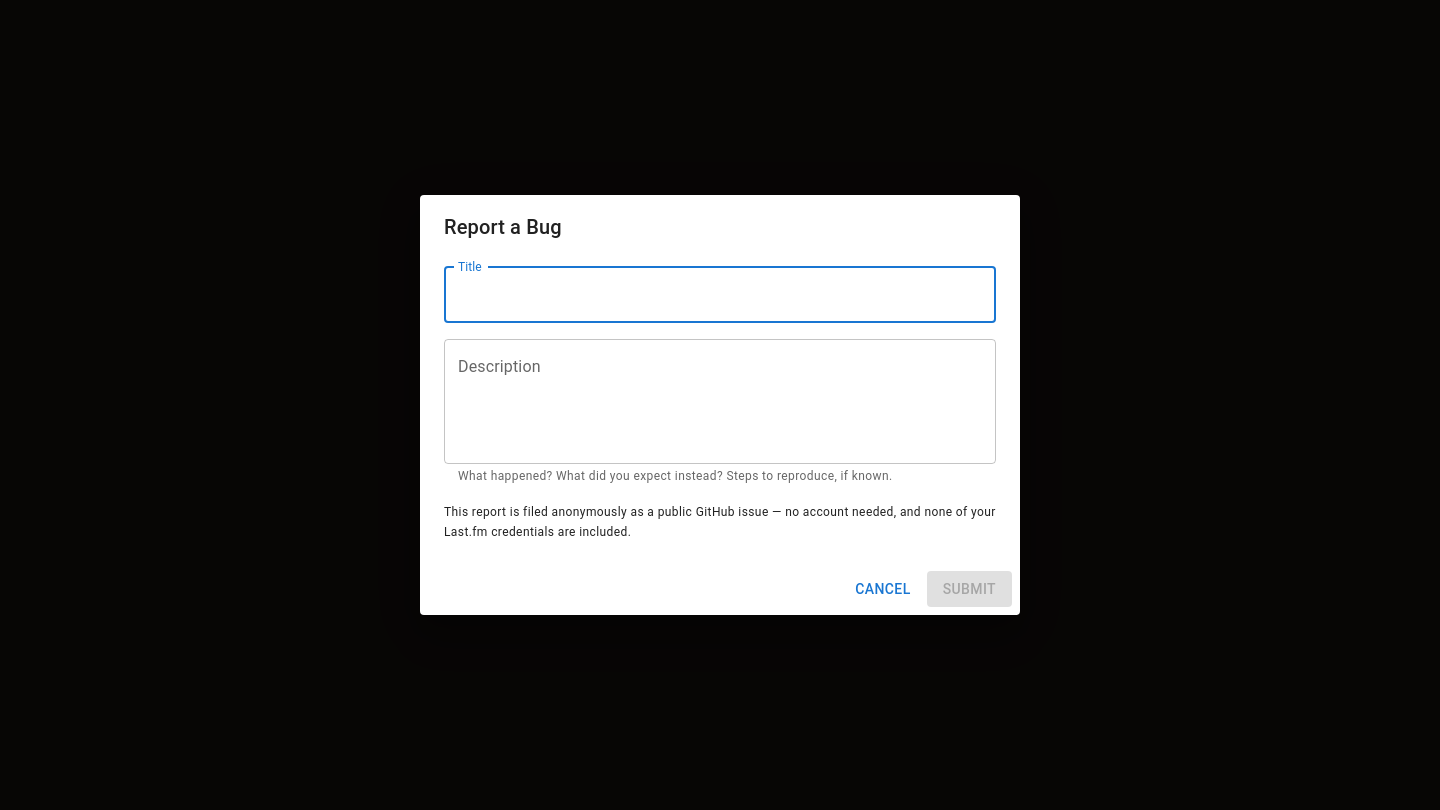
BugReportDialog › shows an error message when submission fails
The width and height of the screenshot is (1440, 810).
In the field labelled "Title": (720, 295) [444, 267, 996, 323], type "Title"
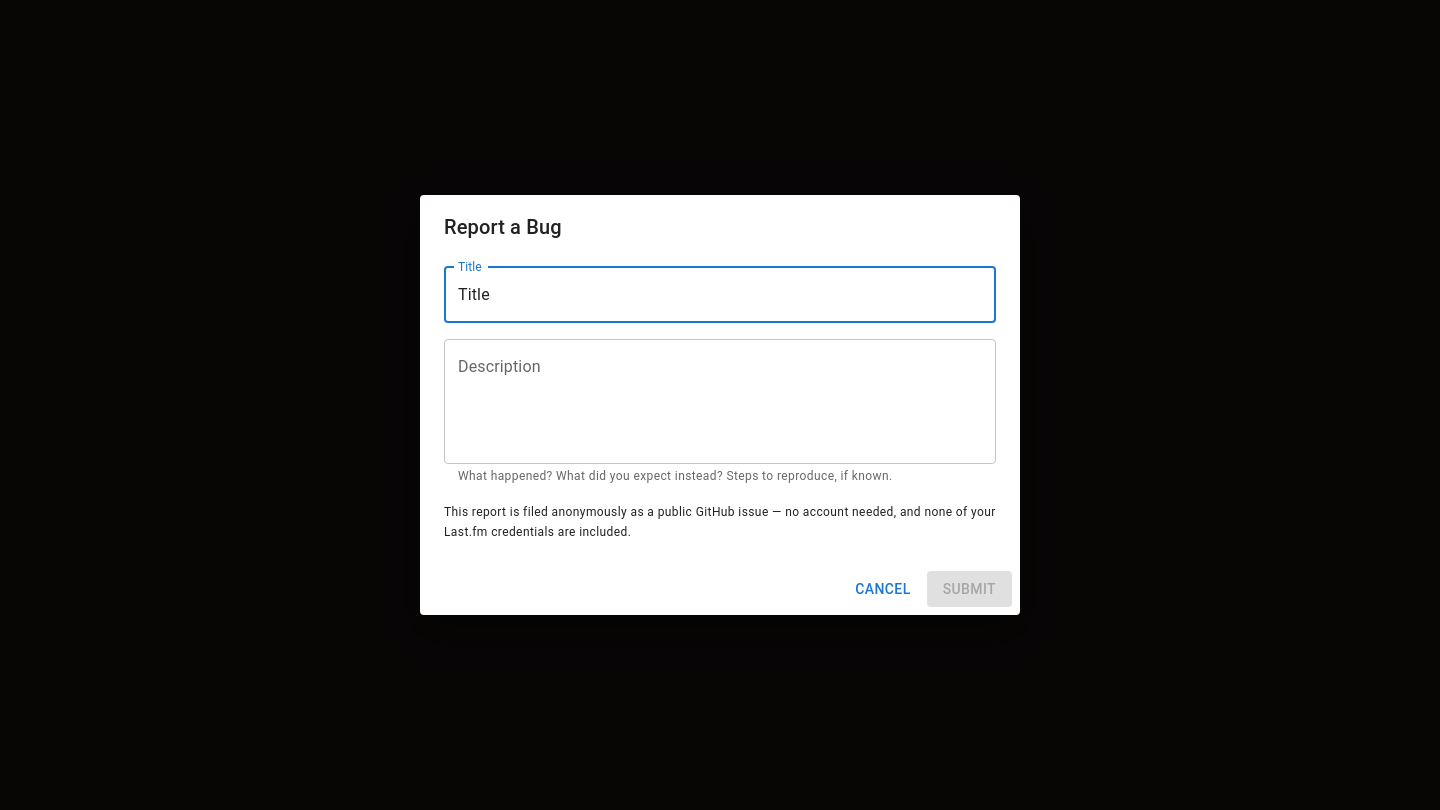
In the text box labelled "Description": (720, 401) [458, 355, 982, 447], type "Description"
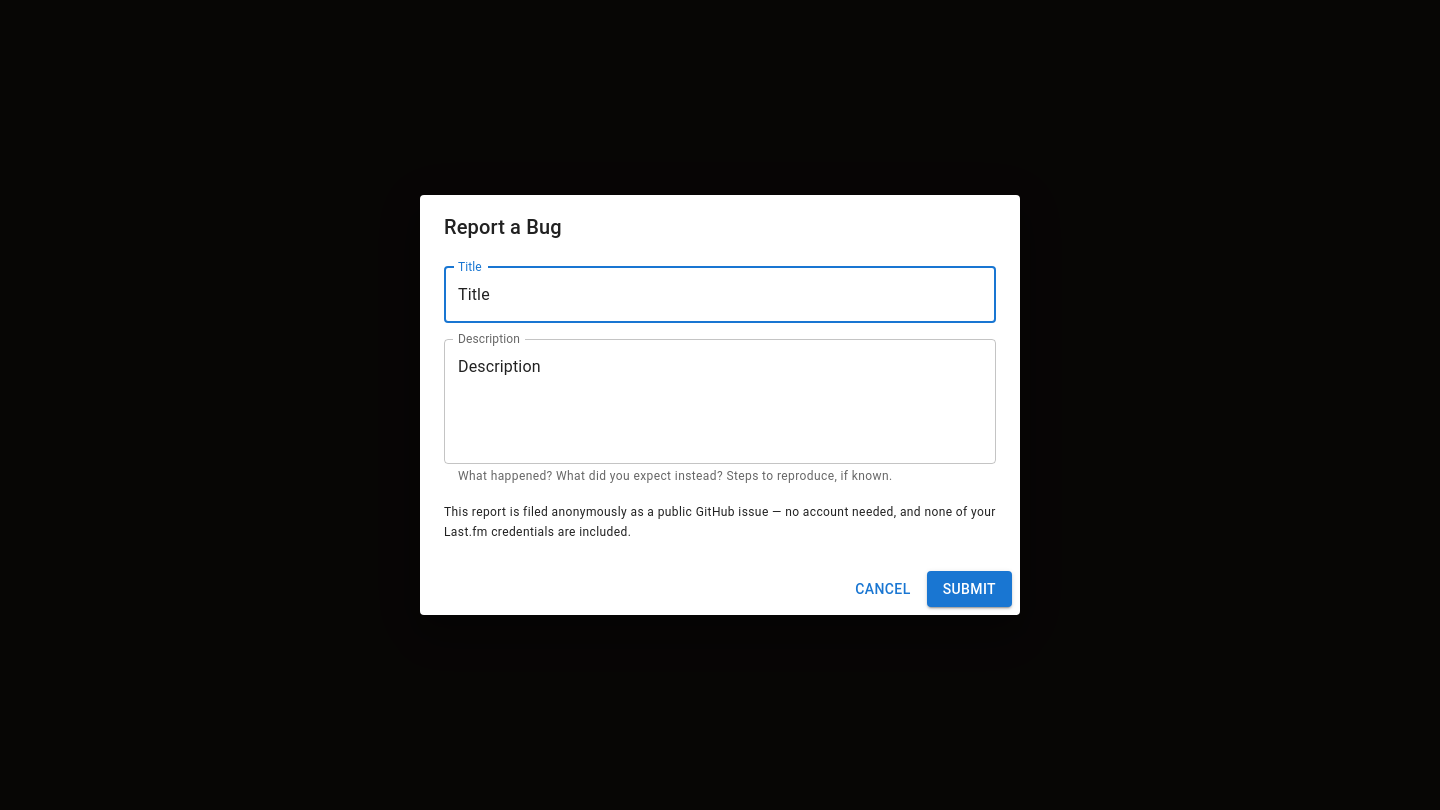
Click the button "Submit": (969, 589) [927, 571, 1012, 607]
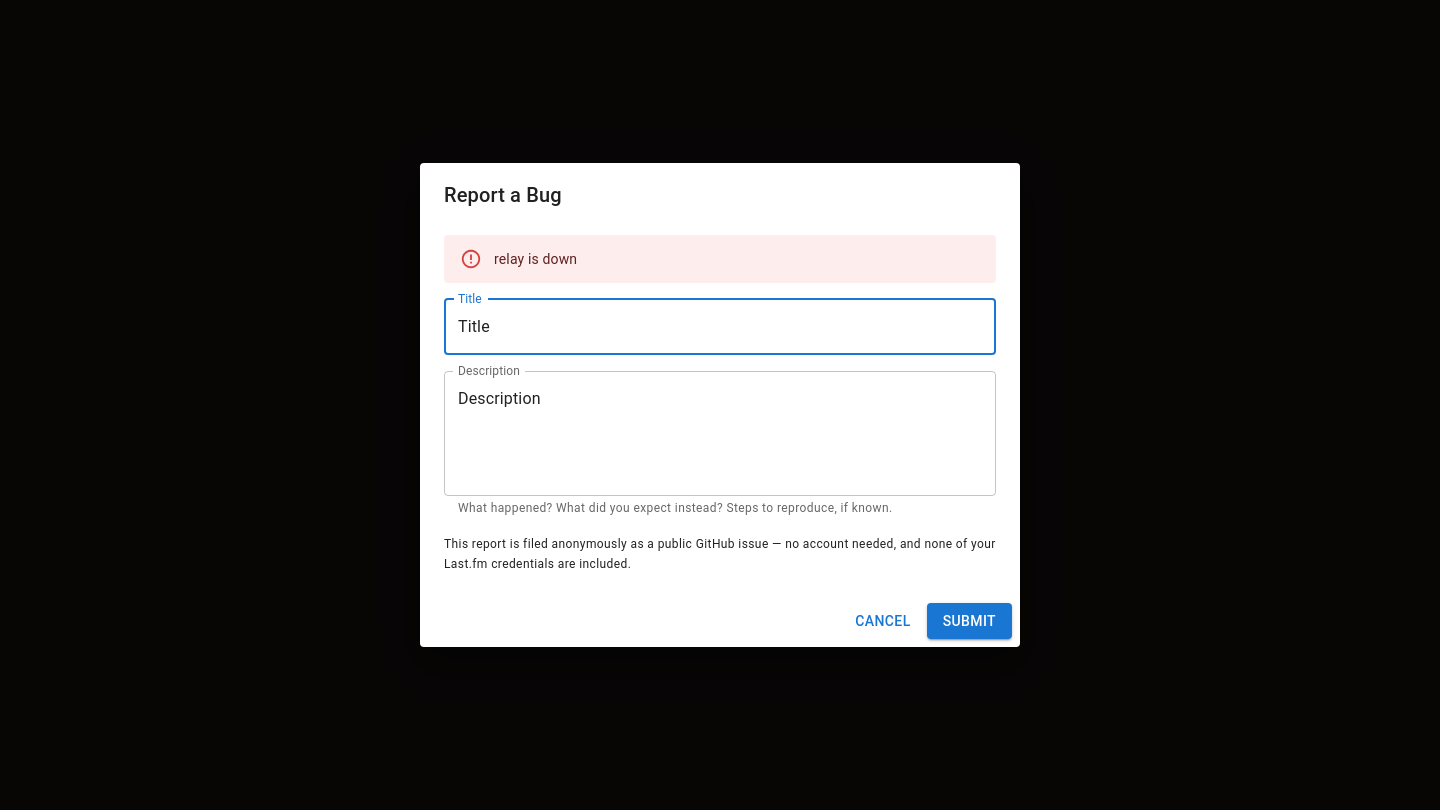
expect the text "relay is down" is shown: met, box [494, 251, 577, 267]
